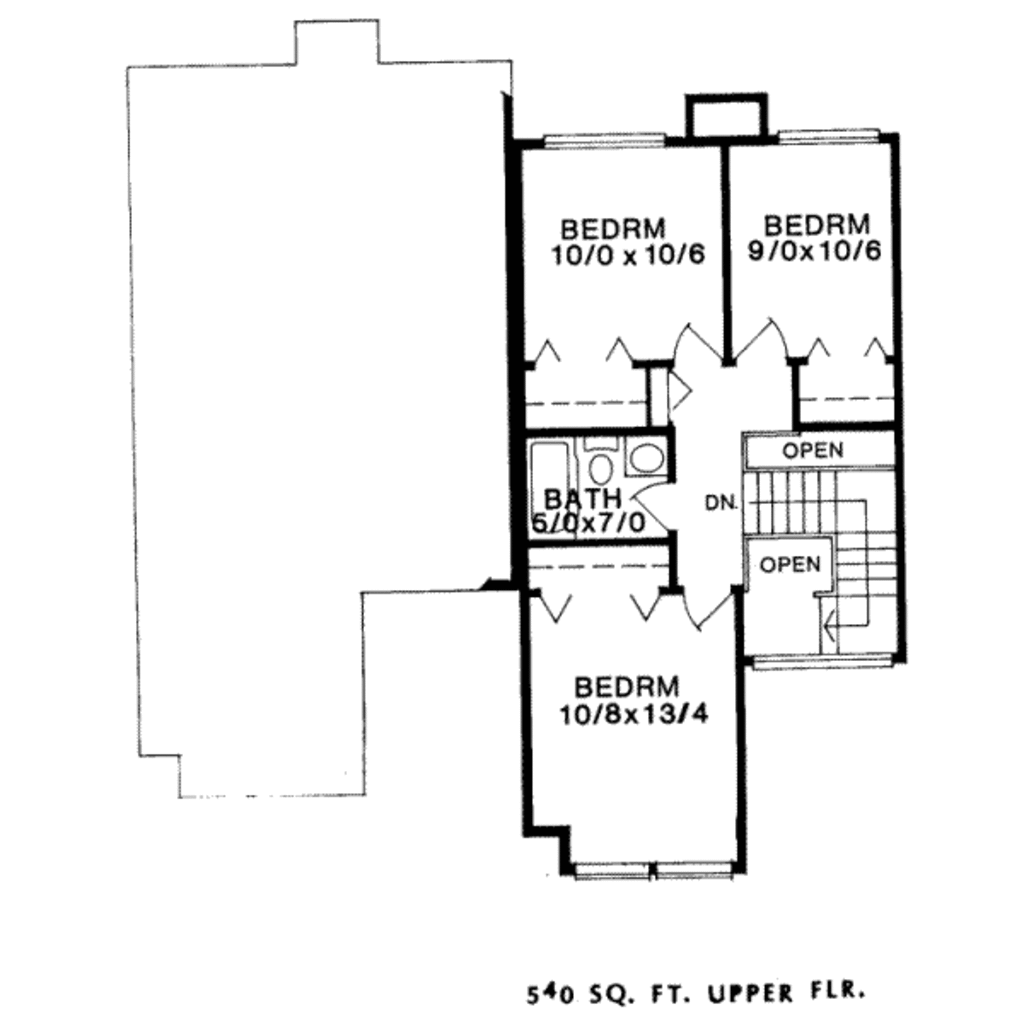door: (732, 311, 793, 376), (658, 316, 729, 368), (675, 581, 736, 640), (620, 480, 677, 537)
large_sink: (572, 432, 620, 494)
small_sink: (618, 429, 672, 475)
stairs: (728, 460, 901, 668)
tub: (523, 440, 575, 541)
window: (572, 854, 736, 884), (537, 124, 672, 159), (775, 122, 886, 149)
